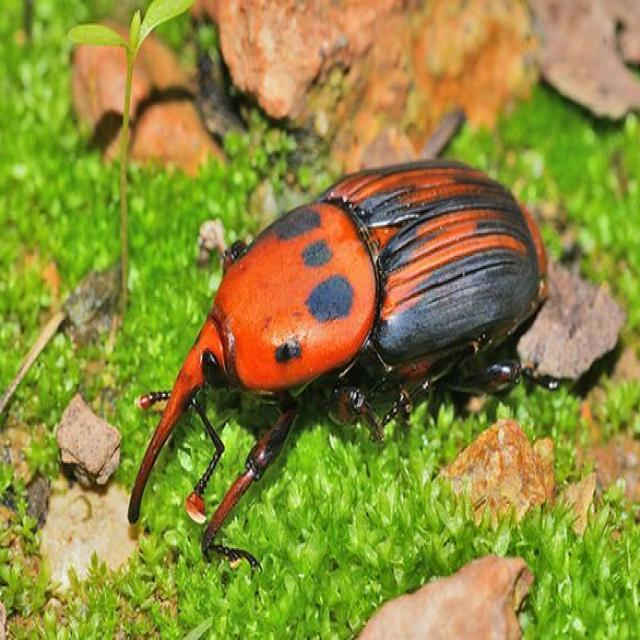Red-palm-weevil: (121, 152, 560, 564)
